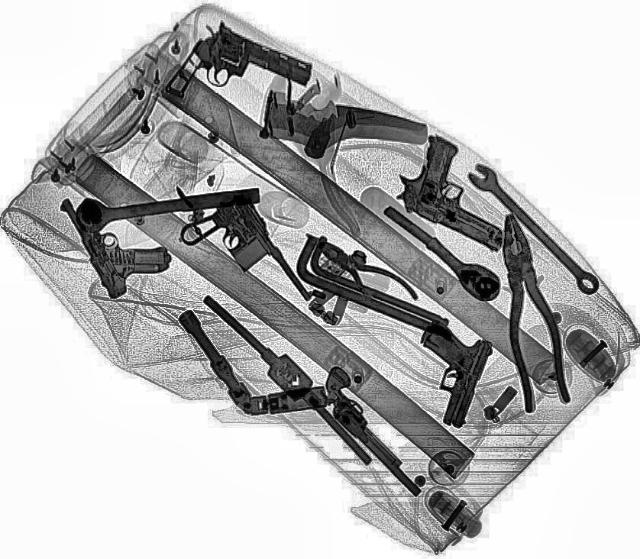Gun: (298, 362, 448, 498), (168, 190, 314, 326), (381, 131, 543, 251), (160, 20, 318, 136), (55, 174, 182, 300), (389, 319, 496, 429)
Pliers: (486, 212, 572, 412), (300, 226, 422, 318)
Wrench: (460, 160, 608, 298)
